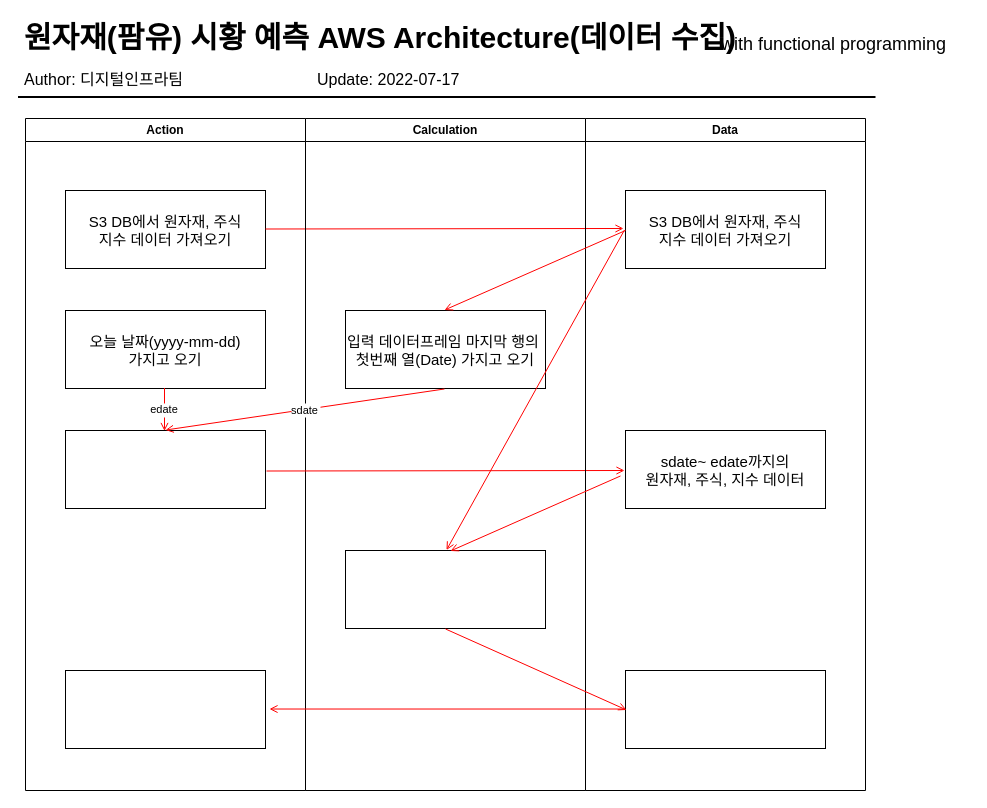
This 987x808 diagram has some shape labels left out. Here are the shapes that lost their labels. From the top down, the centre of each, then its label:
pixel 165 469: sdate+1 day ~ edate까지 원자재, 주식, 지수 데이터 수집하기
pixel 445 589: 두개의 데이터 합치기 pd.concat([df1, df2])
pixel 165 709: 데이터 S3에 업로드 하기
pixel 725 709: 과거 데이터 ~ 오늘날짜 까지의 원자재, 주식, 지수 데이터
